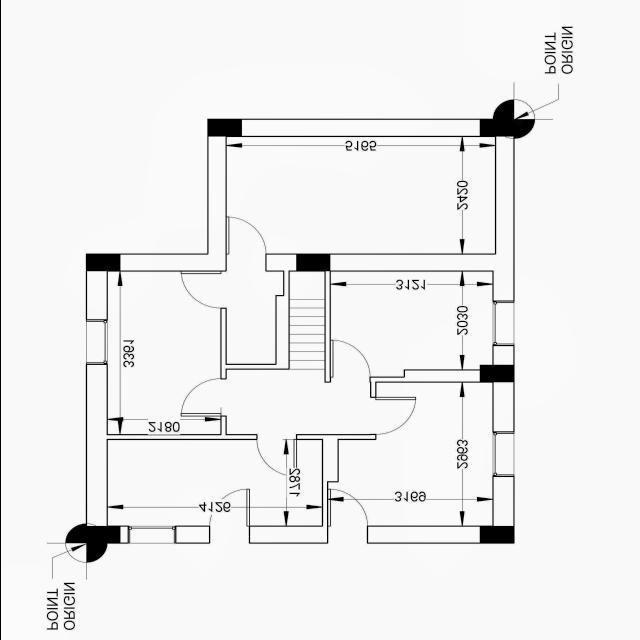Column: (294, 253, 330, 273), (478, 524, 514, 543), (478, 363, 514, 382), (478, 119, 514, 137), (84, 525, 120, 543), (207, 118, 241, 136), (87, 254, 121, 271)
Door: (372, 394, 424, 452), (329, 335, 382, 387), (222, 213, 266, 268), (324, 488, 371, 536), (176, 270, 226, 314), (178, 376, 225, 419), (249, 434, 295, 476), (205, 486, 252, 526)
Staircase: (288, 272, 326, 372)
Window: (486, 427, 518, 482), (120, 524, 186, 550), (81, 313, 110, 371), (486, 293, 516, 349)
